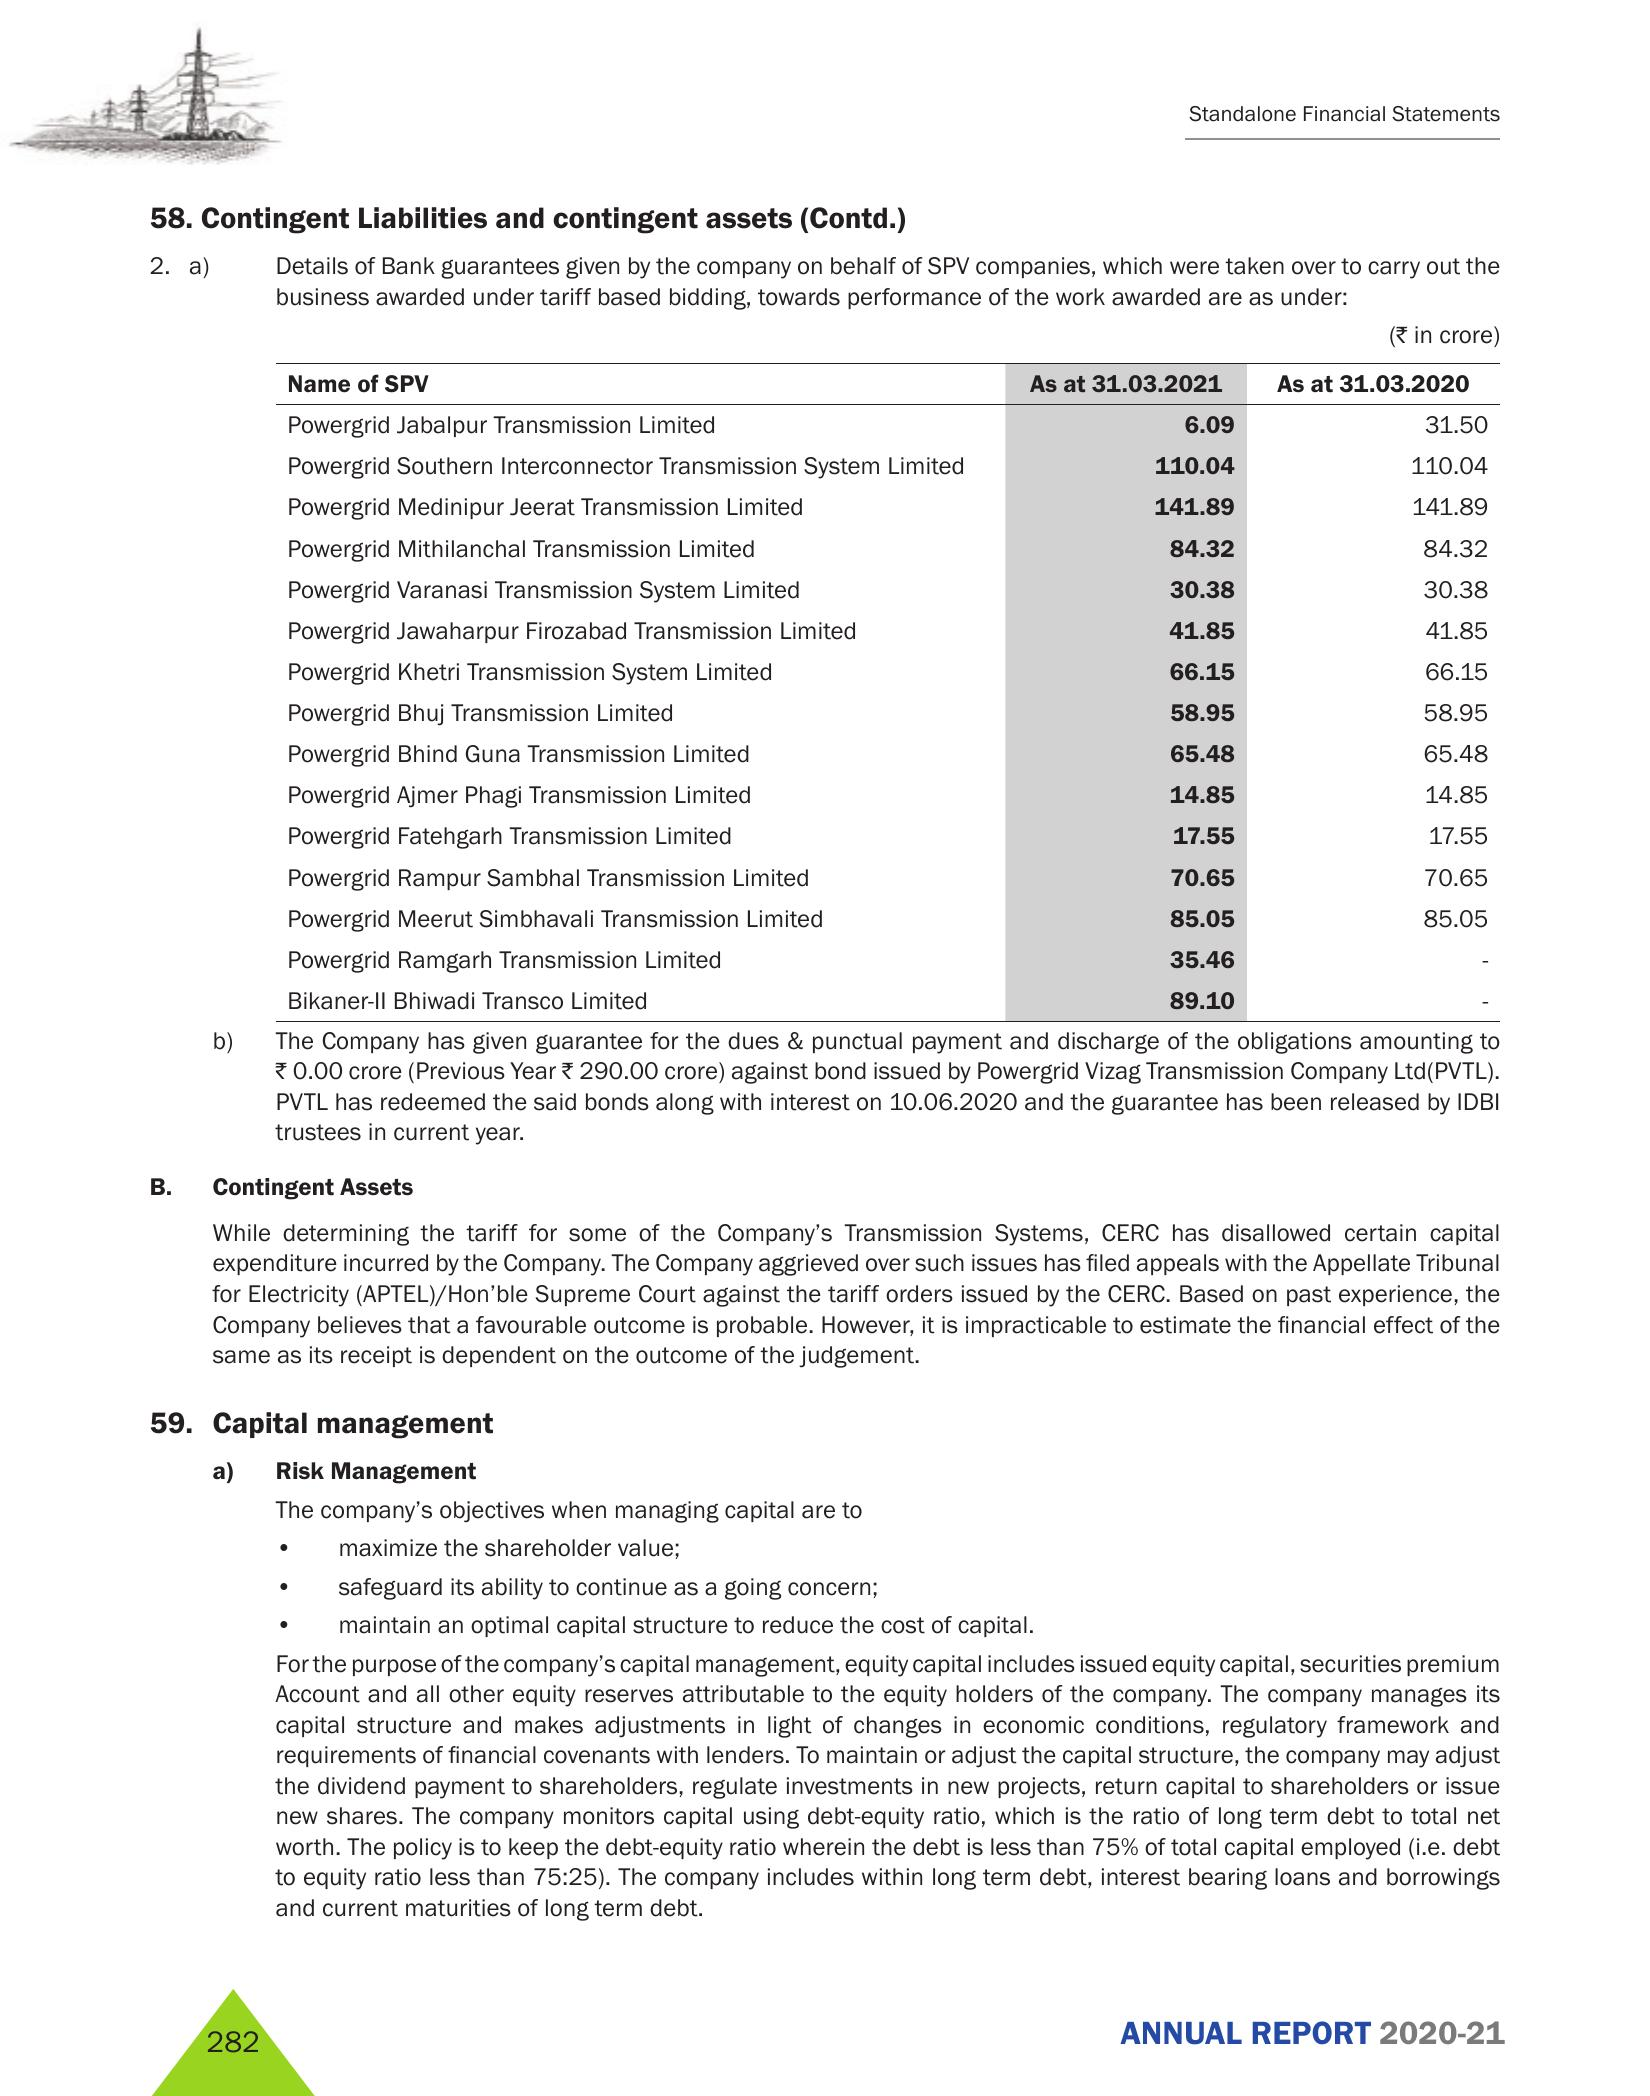Footer: (0, 1974, 1650, 2096)
Header: (0, 0, 1650, 175)
Table: (248, 361, 1511, 1026)
